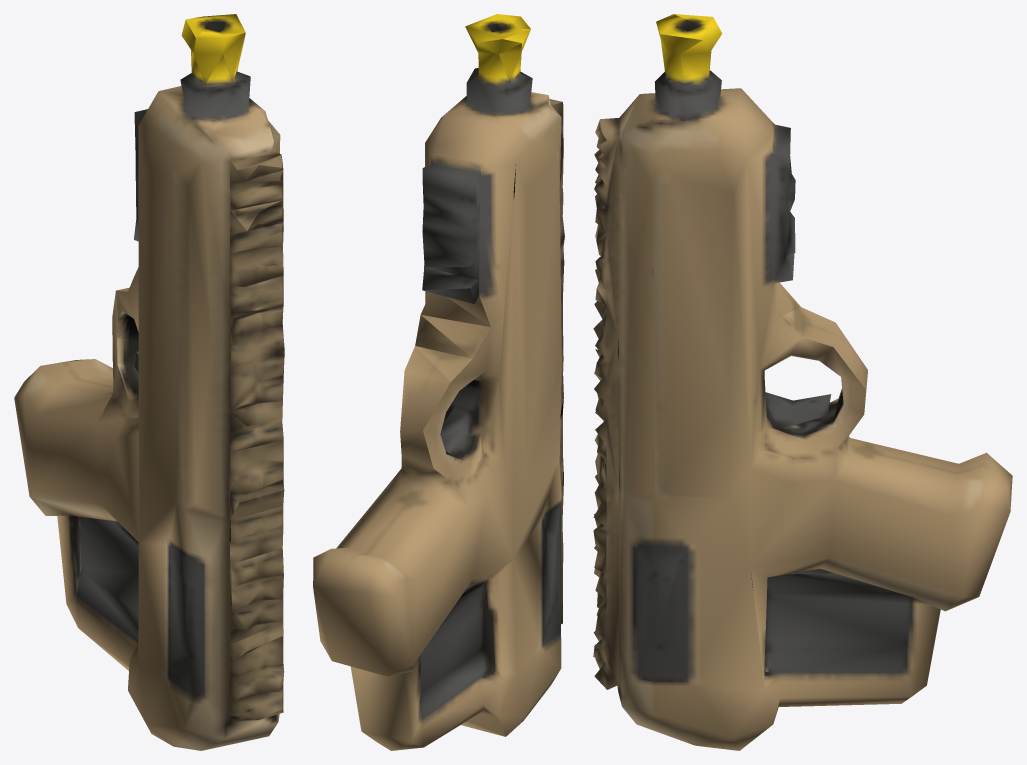
The model's file is bullpup.glb.
3 views of the same model, side by side, from view 1: azimuth 30°, elevation 25°; view 2: azimuth 150°, elevation 25°; view 3: azimuth 270°, elevation 25° (orthographic). The views are drawn at different scales.
Parts seen in each view (by area): view 1: bullpup; view 2: bullpup; view 3: bullpup.
Part boxes in pixels (bbox=[...]): bullpup: bbox=[14, 14, 284, 750]; bullpup: bbox=[313, 14, 564, 750]; bullpup: bbox=[593, 14, 1012, 750].
Bounding box in the file's own units: 0.0951 × 0.6282 × 0.3368.
Materials: 1 (1 with a texture image).
